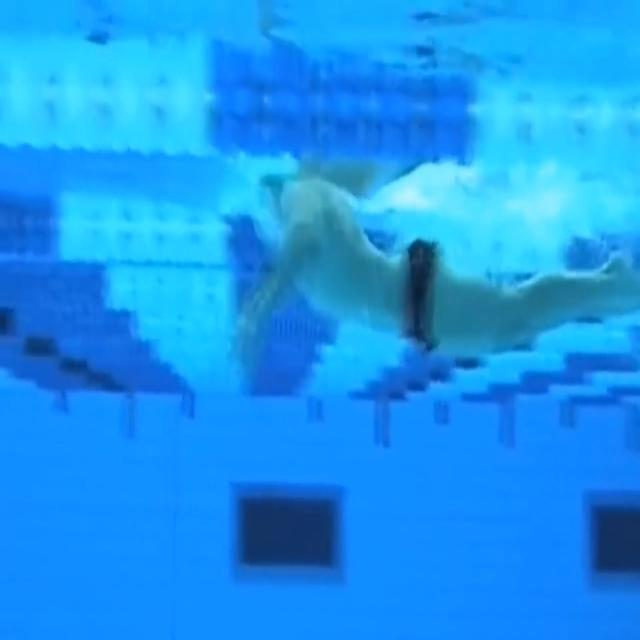Swimming: (234, 151, 640, 358)
